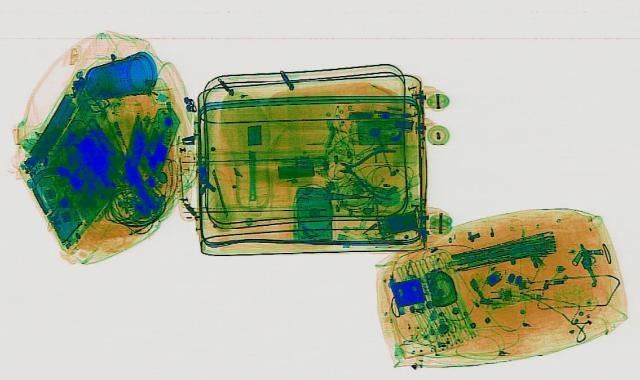Pliers: (332, 144, 401, 198)
